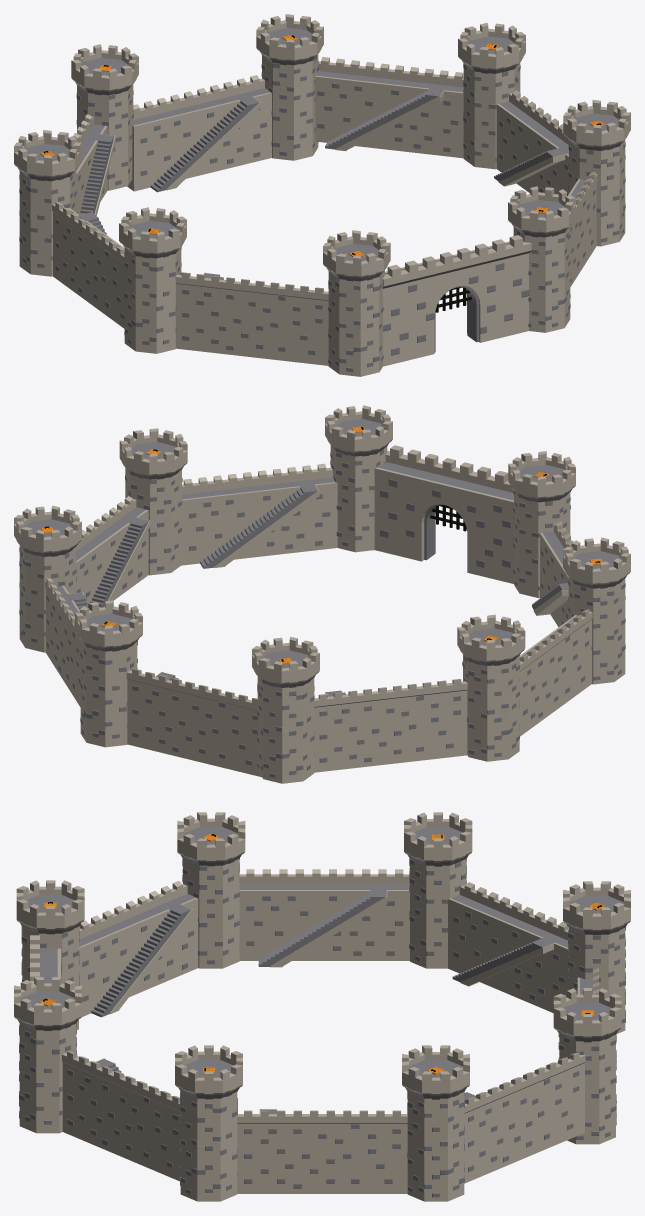
File: castleWalls.fbx
3 renders of one model, top to bottom at view 1: azimuth 30°, elevation 25°; view 2: azimuth 150°, elevation 25°; view 3: azimuth 270°, elevation 25°, orthographic. The views are drawn at different scales.
Visible parts, largest first — view 1: Cube.001, Cube, Cube.008, Cube.005, Plane.004, Plane.005, Plane, Plane.003, Plane.006, Plane.001, Plane.002, Plane.007 (+5 smaller); view 2: Cube.003, Cube.008, Cube.007, Cube, Plane.007, Plane.006, Plane, Plane.003, Plane.005, Plane.002, Plane.001, Plane.004 (+5 smaller); view 3: Cube.006, Cube.002, Cube.005, Cube.007, Cube.001, Cube.003, Plane.001, Plane.002, Plane.003, Plane.005, Plane.006, Plane (+3 smaller).
Part boxes in pixels (x1=…): Cube.001: x1=315, y1=57, x2=463, y2=158; Cube: x1=127, y1=75, x2=271, y2=192; Cube.008: x1=382, y1=235, x2=531, y2=366; Cube.005: x1=175, y1=272, x2=328, y2=365; Plane.004: x1=323, y1=230, x2=390, y2=376; Plane.005: x1=119, y1=207, x2=186, y2=353; Plane: x1=256, y1=14, x2=323, y2=160; Plane.003: x1=508, y1=186, x2=575, y2=332; Plane.006: x1=14, y1=130, x2=81, y2=276; Plane.001: x1=458, y1=22, x2=525, y2=169; Plane.002: x1=563, y1=100, x2=630, y2=246; Plane.007: x1=71, y1=44, x2=138, y2=190; Cube.003: x1=181, y1=463, x2=337, y2=568; Cube.008: x1=374, y1=445, x2=513, y2=583; Cube.007: x1=314, y1=679, x2=467, y2=772; Cube: x1=126, y1=668, x2=261, y2=777; Plane.007: x1=252, y1=636, x2=319, y2=783; Plane.006: x1=457, y1=614, x2=525, y2=761; Plane: x1=75, y1=600, x2=142, y2=747; Plane.003: x1=325, y1=405, x2=392, y2=552; Plane.005: x1=563, y1=537, x2=630, y2=684; Plane.002: x1=119, y1=428, x2=187, y2=575; Plane.001: x1=14, y1=505, x2=81, y2=652; Plane.004: x1=508, y1=451, x2=575, y2=597; Cube.006: x1=239, y1=869, x2=409, y2=967; Cube.002: x1=237, y1=1109, x2=407, y2=1193; Cube.005: x1=79, y1=881, x2=198, y2=1017; Cube.007: x1=448, y1=882, x2=568, y2=1012; Cube.001: x1=464, y1=1052, x2=585, y2=1183; Cube.003: x1=62, y1=1051, x2=180, y2=1181; Plane.001: x1=402, y1=1045, x2=469, y2=1201; Plane.002: x1=175, y1=1045, x2=242, y2=1201; Plane.003: x1=14, y1=977, x2=81, y2=1133; Plane.005: x1=177, y1=812, x2=245, y2=968; Plane.006: x1=404, y1=812, x2=472, y2=968; Plane: x1=553, y1=988, x2=621, y2=1144.
Bounding box in the file's own units: 2184 × 551 × 2175.
